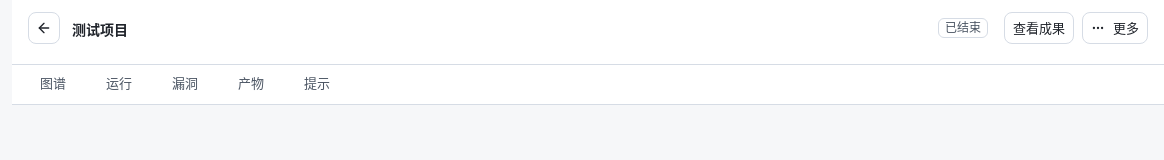
ProjectWorkspace shared control migration › opens the existing report flow from the workspace header
Click the button "查看成果".
click(1039, 28)  # box [1004,12,1074,44]
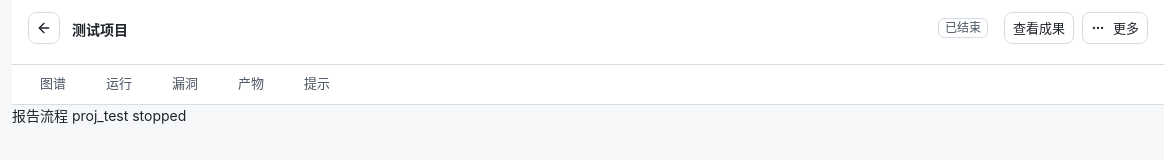
expect the text with test id "project-report-dialog" reads "报告流程 proj_test stopped": met, box [12,107,186,124]
